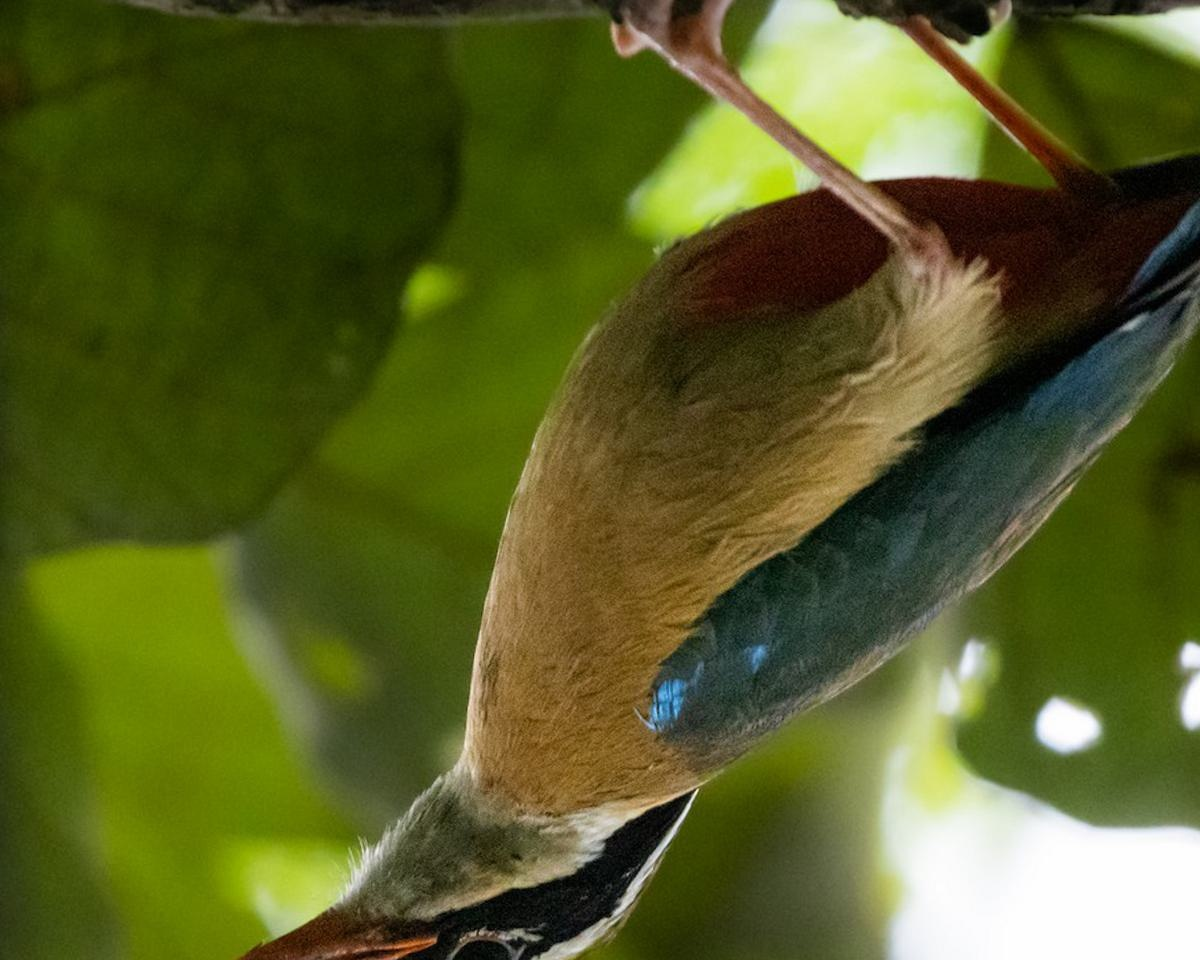pitta: (282, 53, 1152, 960)
